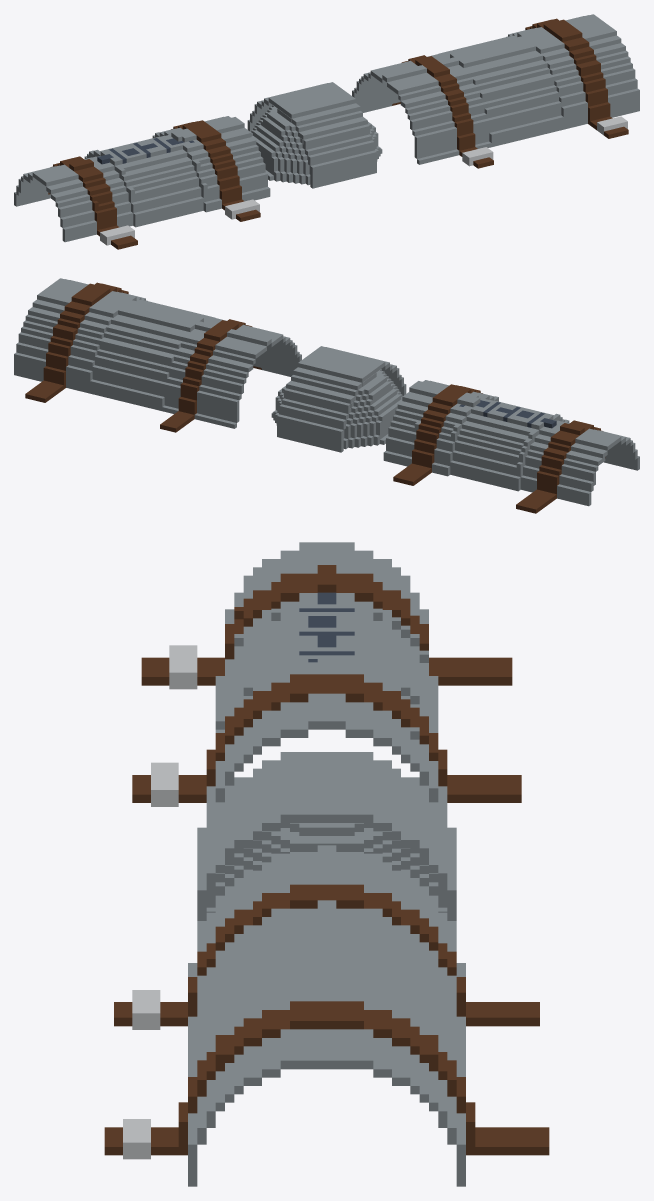
The model's file is steel_bracer.glb.
3 views of the same model, one above another, from view 1: azimuth 30°, elevation 25°; view 2: azimuth 150°, elevation 25°; view 3: azimuth 270°, elevation 25° (orthographic). The views are drawn at different scales.
Parts seen in each view (by area): view 1: steel_bracer:compound; view 2: steel_bracer:compound; view 3: steel_bracer:compound.
Part boxes in pixels (bbox=[...]): steel_bracer:compound: bbox=[14, 14, 639, 249]; steel_bracer:compound: bbox=[14, 278, 639, 513]; steel_bracer:compound: bbox=[104, 542, 549, 1186].
Size of the model in its own units: 0.564 by 0.064 by 0.192.
